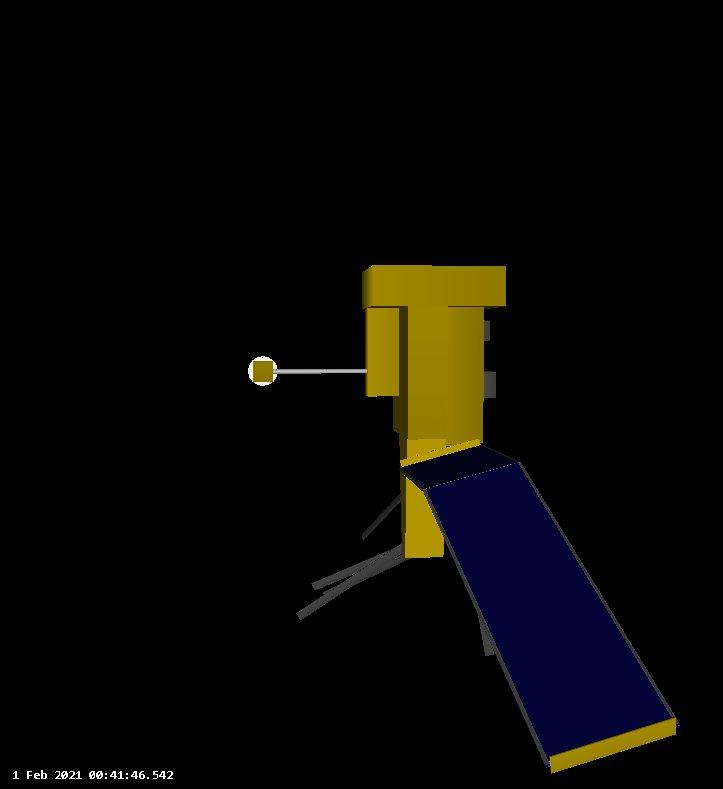antenna: (245, 353, 281, 388)
body: (359, 261, 510, 561)
solar: (397, 441, 694, 775)
